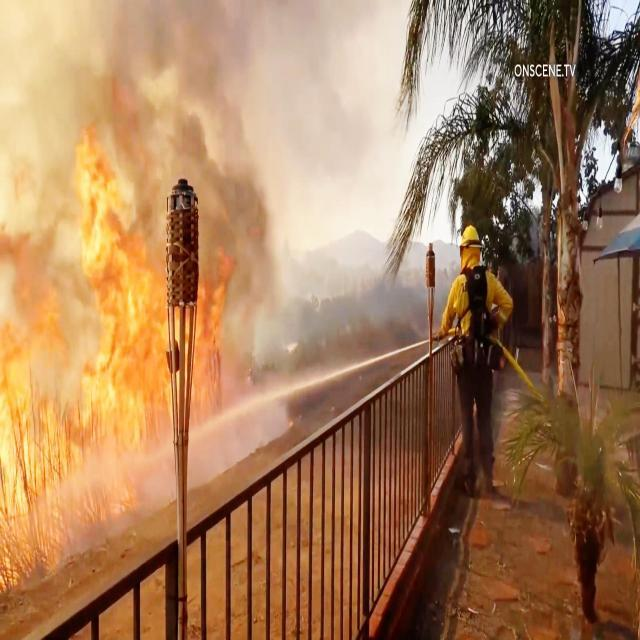Fire: (0, 140, 162, 518)
Smoke: (1, 2, 374, 138), (204, 111, 275, 253)
